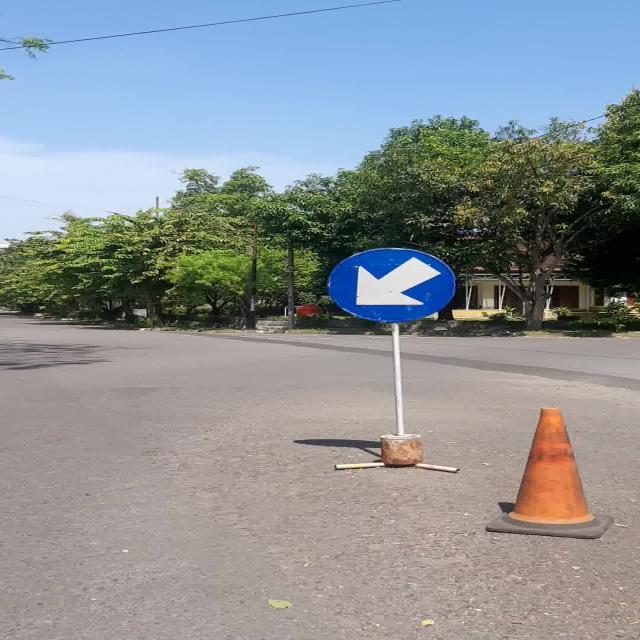Lajur Kiri: (328, 248, 456, 323)
